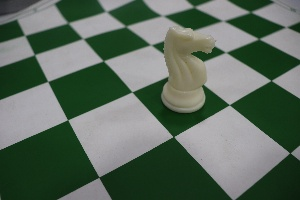white_horse: (157, 13, 220, 129)
